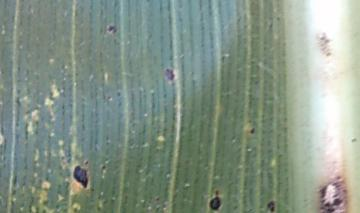tarspot: (312, 30, 333, 59), (71, 164, 90, 191), (209, 188, 222, 211), (162, 67, 175, 82), (266, 198, 278, 213), (104, 23, 118, 34), (347, 135, 358, 144), (249, 125, 256, 137), (114, 90, 123, 99), (81, 159, 89, 167), (100, 164, 107, 171), (275, 15, 282, 21)
